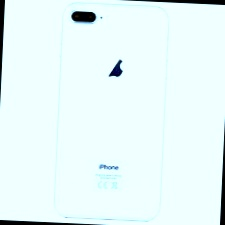iphone: (57, 4, 166, 220)
